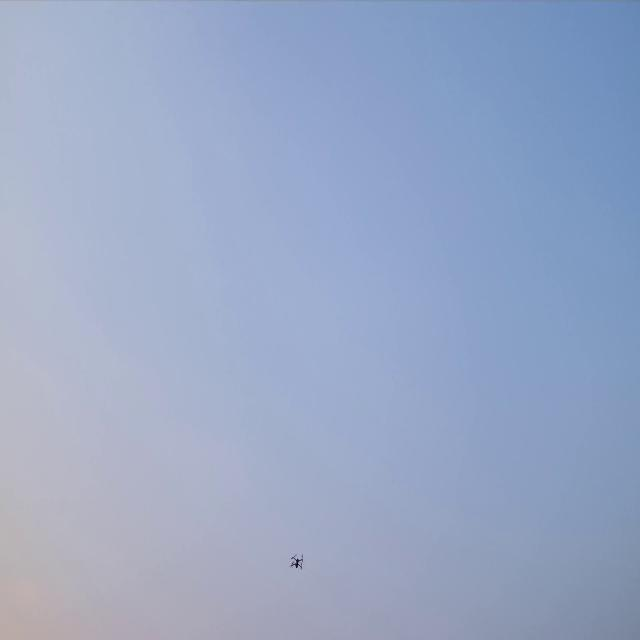UAV: (290, 552, 304, 570)
